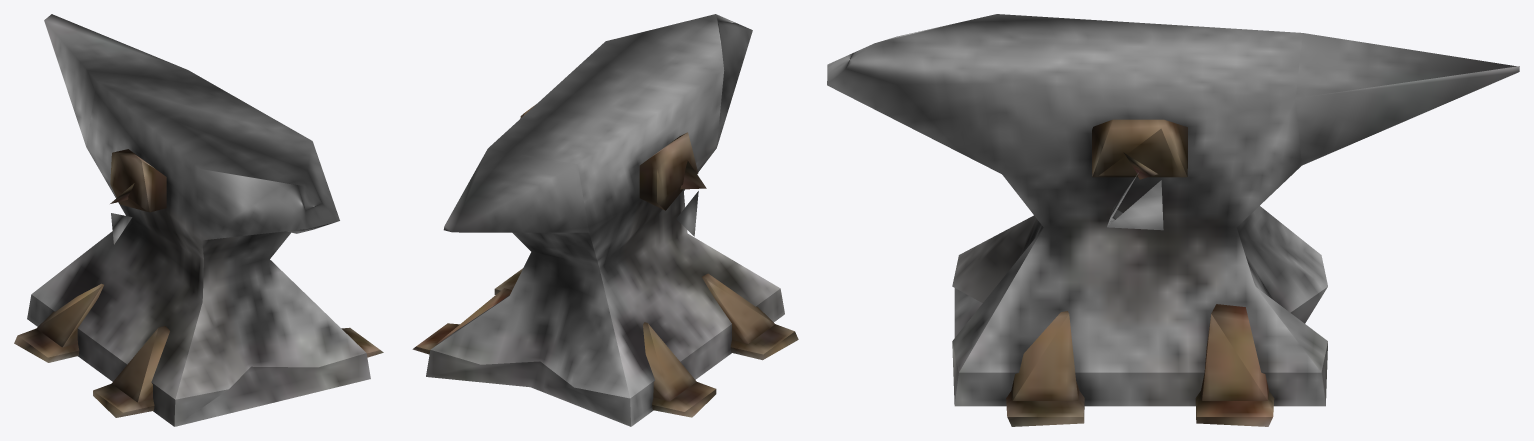
File: anvil.lod1.glb
3 renders of one model, left to right at view 1: azimuth 30°, elevation 25°; view 2: azimuth 150°, elevation 25°; view 3: azimuth 270°, elevation 25°, orthographic. The views are drawn at different scales.
Visible parts, largest first — view 1: defaultMaterial; view 2: defaultMaterial; view 3: defaultMaterial.
Boxes of the visible parts, x1,y1,x2,y2 form: defaultMaterial: [14, 14, 383, 426]; defaultMaterial: [412, 14, 798, 426]; defaultMaterial: [827, 14, 1519, 426].
Size of the model in its own units: 0.5587 by 0.481 by 0.9929.
Materials: 1 (1 with a texture image).
